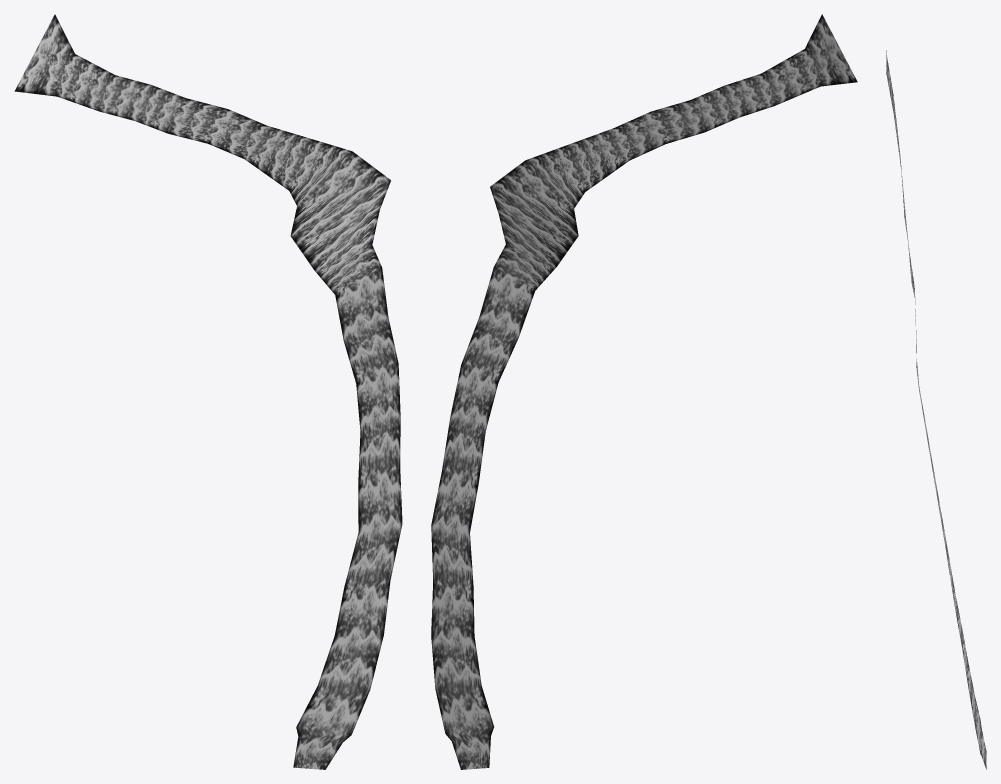
File: polygon25.001.obj
3 renders of one model, left to right at view 1: azimuth 30°, elevation 25°; view 2: azimuth 150°, elevation 25°; view 3: azimuth 270°, elevation 25°, orthographic. The views are drawn at different scales.
Parts seen in each view (by area): view 1: polygon25.001; view 2: polygon25.001; view 3: polygon25.001.
Part boxes in pixels (left/top/right/bottom): polygon25.001: left=14, top=14, right=402, bottom=769; polygon25.001: left=431, top=14, right=857, bottom=769; polygon25.001: left=886, top=50, right=986, bottom=769.
Bounding box in the file's own units: 1283 × 2501 × 356.
Materials: 1 (1 with a texture image).
